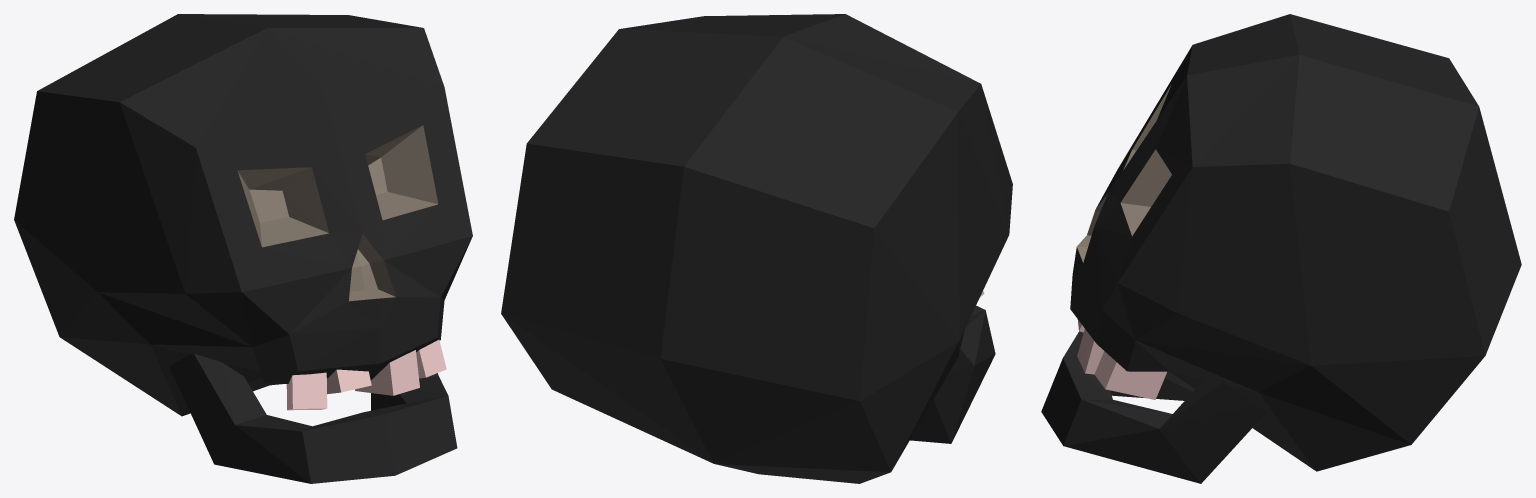
File: SM_Item_Skull_01.glb
3 views of the same model, side by side, from view 1: azimuth 30°, elevation 25°; view 2: azimuth 150°, elevation 25°; view 3: azimuth 270°, elevation 25° (orthographic). The views are drawn at different scales.
Parts seen in each view (by area): view 1: SM_Item_Skull_01_00; view 2: SM_Item_Skull_01_00; view 3: SM_Item_Skull_01_00.
Boxes of the visible parts, x1,y1,x2,y2 form: SM_Item_Skull_01_00: (14,14,472,483); SM_Item_Skull_01_00: (501,14,1012,483); SM_Item_Skull_01_00: (1041,14,1521,483).
Bounding box in the file's own units: 0.2331 × 0.2562 × 0.2943.
Materials: 1 (1 with a texture image).
